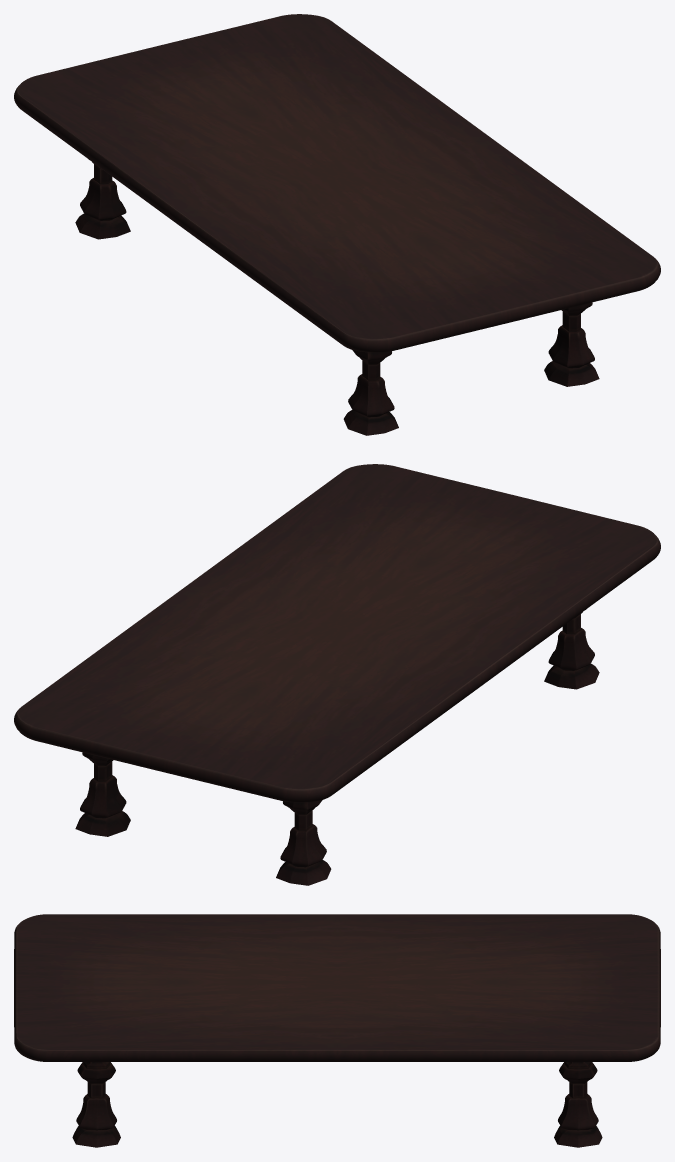
Rendered from Lv1_Mesa.fbx.
The picture shows the model from 3 angles, top to bottom: view 1: azimuth 30°, elevation 25°; view 2: azimuth 150°, elevation 25°; view 3: azimuth 270°, elevation 25°; orthographic projection. The views are drawn at different scales.
Visible parts, largest first — view 1: Lv1_Mesa_Main, Lv1_Mesa_Patas; view 2: Lv1_Mesa_Main, Lv1_Mesa_Patas; view 3: Lv1_Mesa_Main, Lv1_Mesa_Patas.
Part boxes in pixels (x1,y1,x2,y2): Lv1_Mesa_Main: [14, 14, 660, 352]; Lv1_Mesa_Patas: [75, 159, 599, 435]; Lv1_Mesa_Main: [14, 464, 660, 802]; Lv1_Mesa_Patas: [75, 609, 599, 885]; Lv1_Mesa_Main: [14, 914, 660, 1061]; Lv1_Mesa_Patas: [72, 1062, 602, 1147].
Bounding box in the file's own units: 201 × 75.89 × 400.
Materials: 1 (1 with a texture image).
